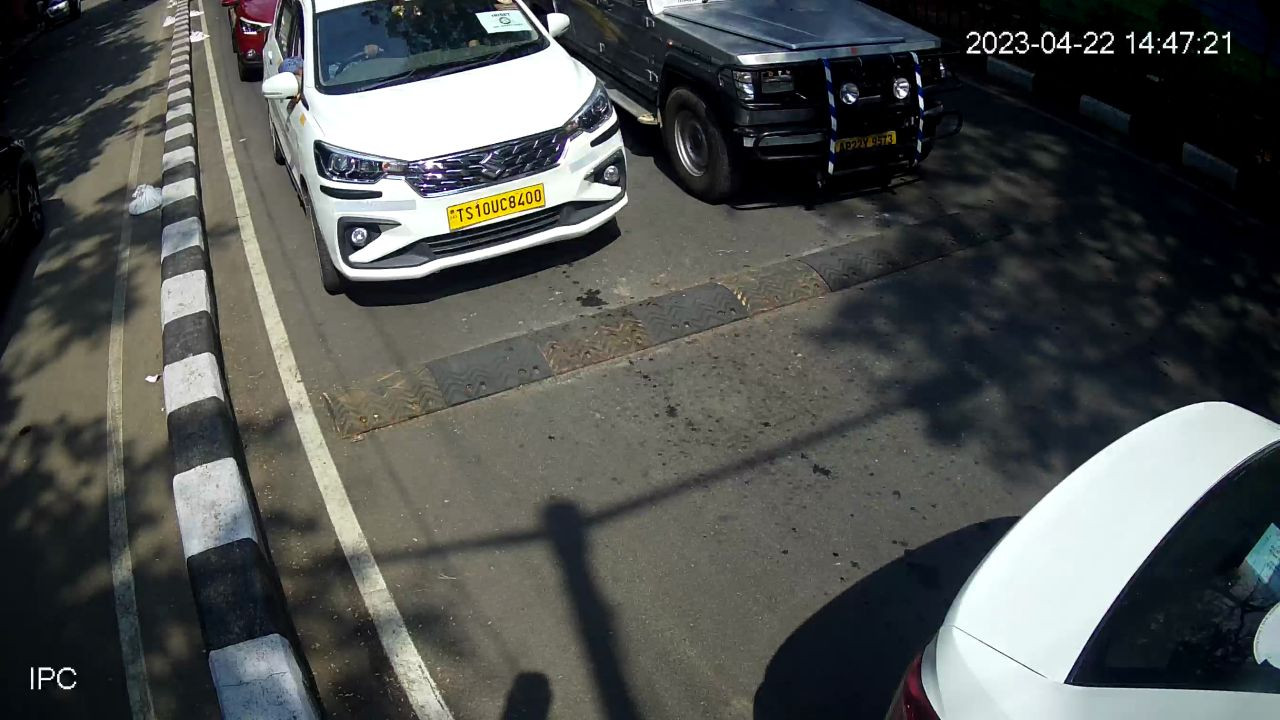license_plate: (440, 178, 550, 234), (828, 124, 907, 157)
